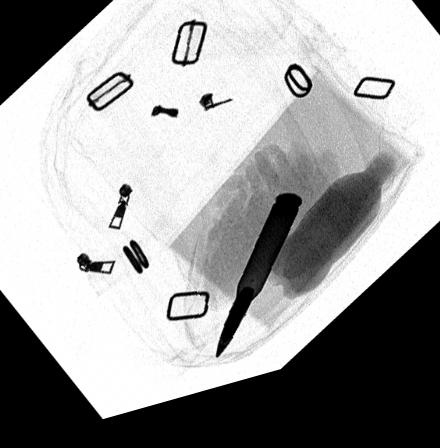Bullet: (213, 208, 302, 373)
